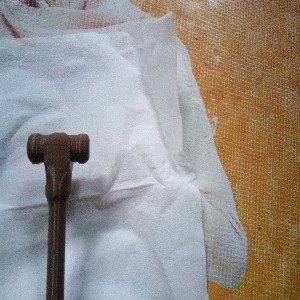palu: (26, 131, 90, 300)
